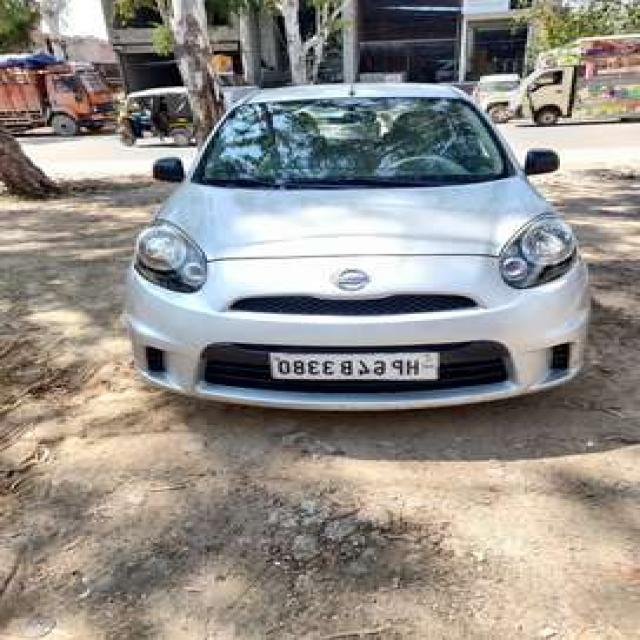license_plate: (269, 350, 441, 380)
